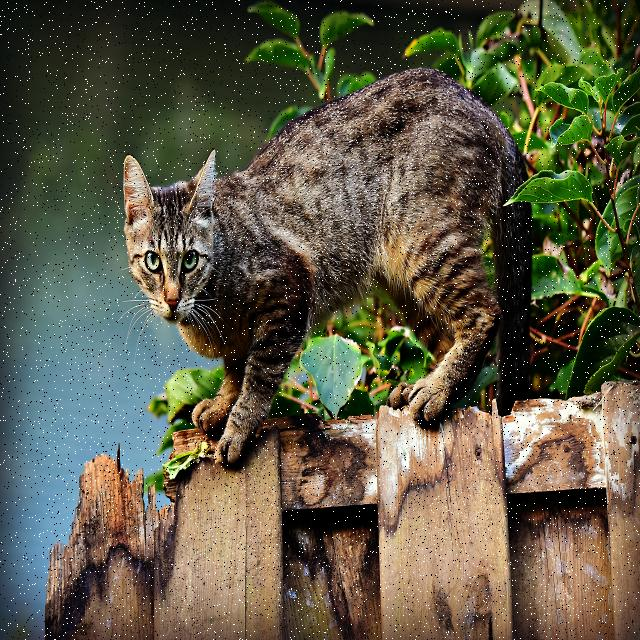cat: (124, 69, 531, 466)
